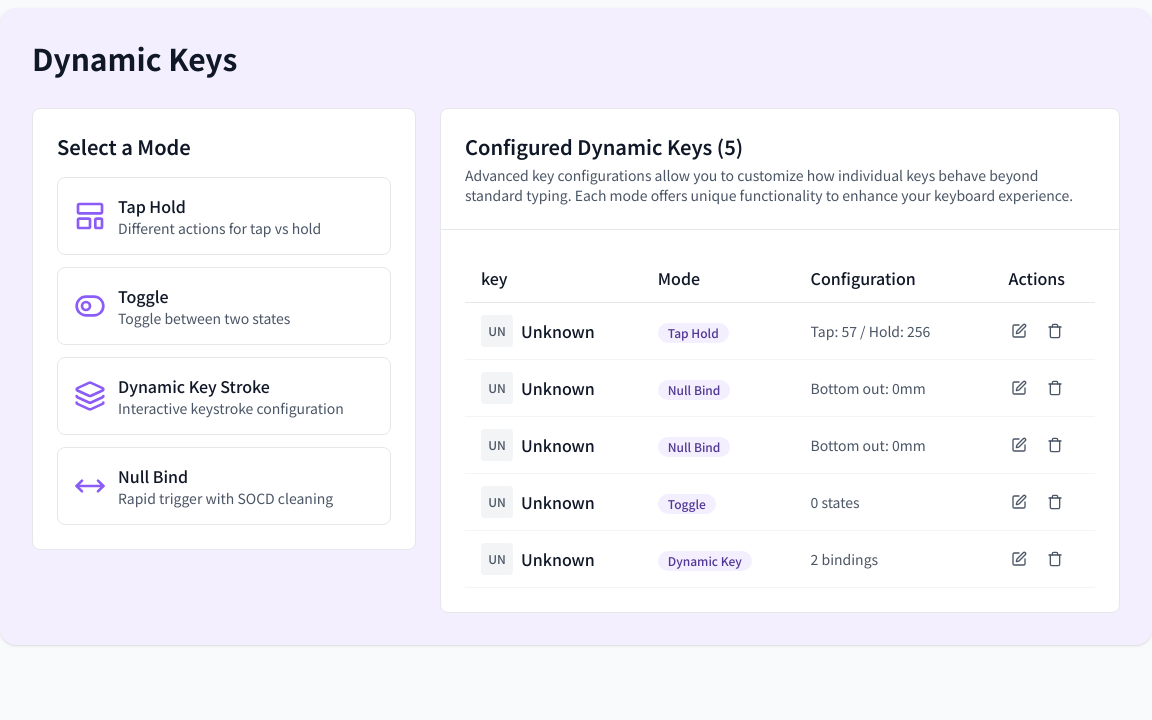
Test: DKS editor › deletes a DKS from the configured list after its fade-out
Click the button "Dynamic Key Stroke Interactive keystroke configuration": (224, 396) [57,357,391,435]
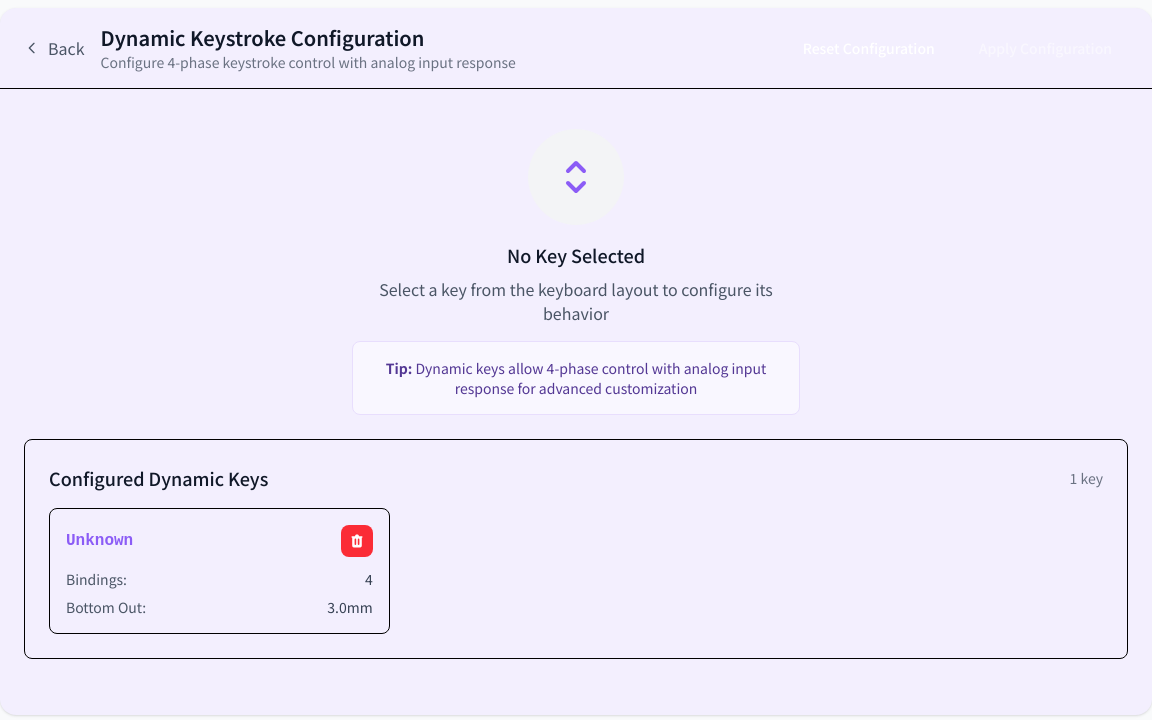
Click the button named "Delete key": (357, 541) [341,525,373,557]
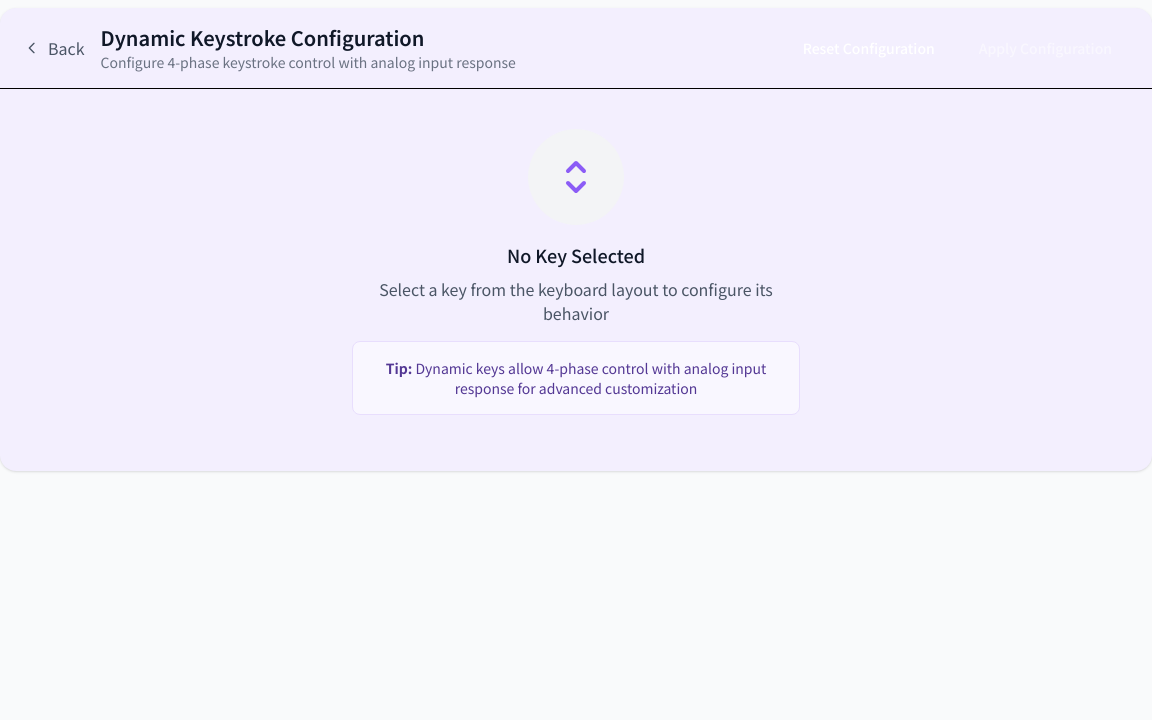
Result: the heading "Configured Dynamic Keys" is gone
